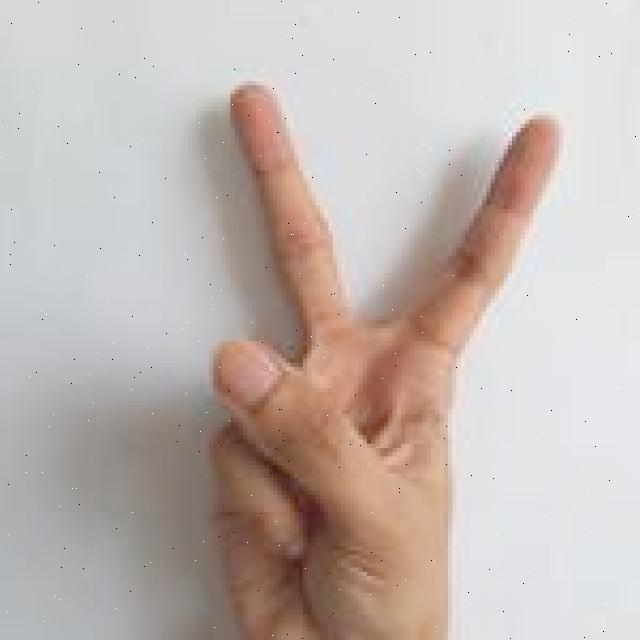V: (198, 76, 571, 640)
